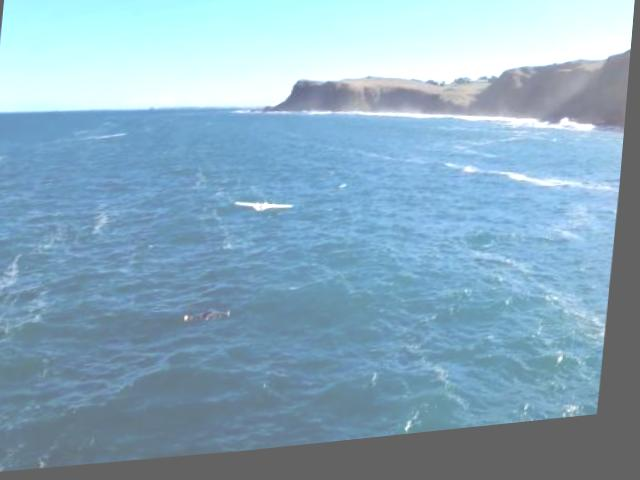uav: (234, 197, 302, 223)
